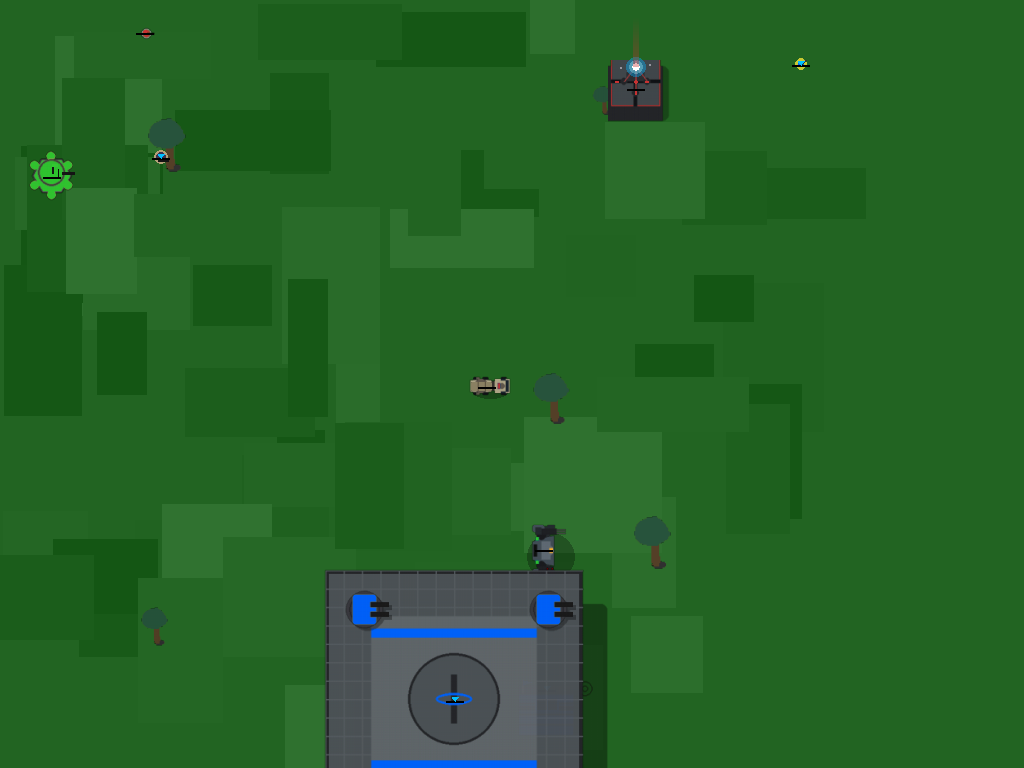Barracks: (511, 652, 584, 725)
Bastion: (302, 547, 609, 768)
Bunker: (25, 148, 80, 203)
CombatEngineer: (787, 50, 804, 76)
HIMARS: (466, 364, 508, 406)
HeavyMech: (523, 529, 564, 570)
ResearchCenter: (602, 54, 669, 121)
Rifleman: (132, 19, 158, 45)
RocketTrooper: (147, 143, 174, 170)
